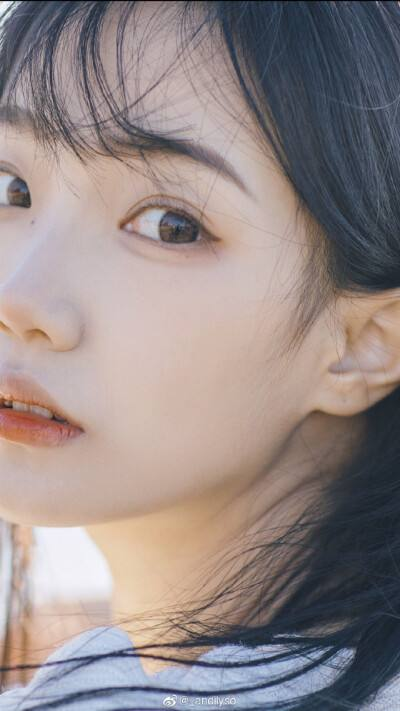person: (2, 19, 343, 547)
